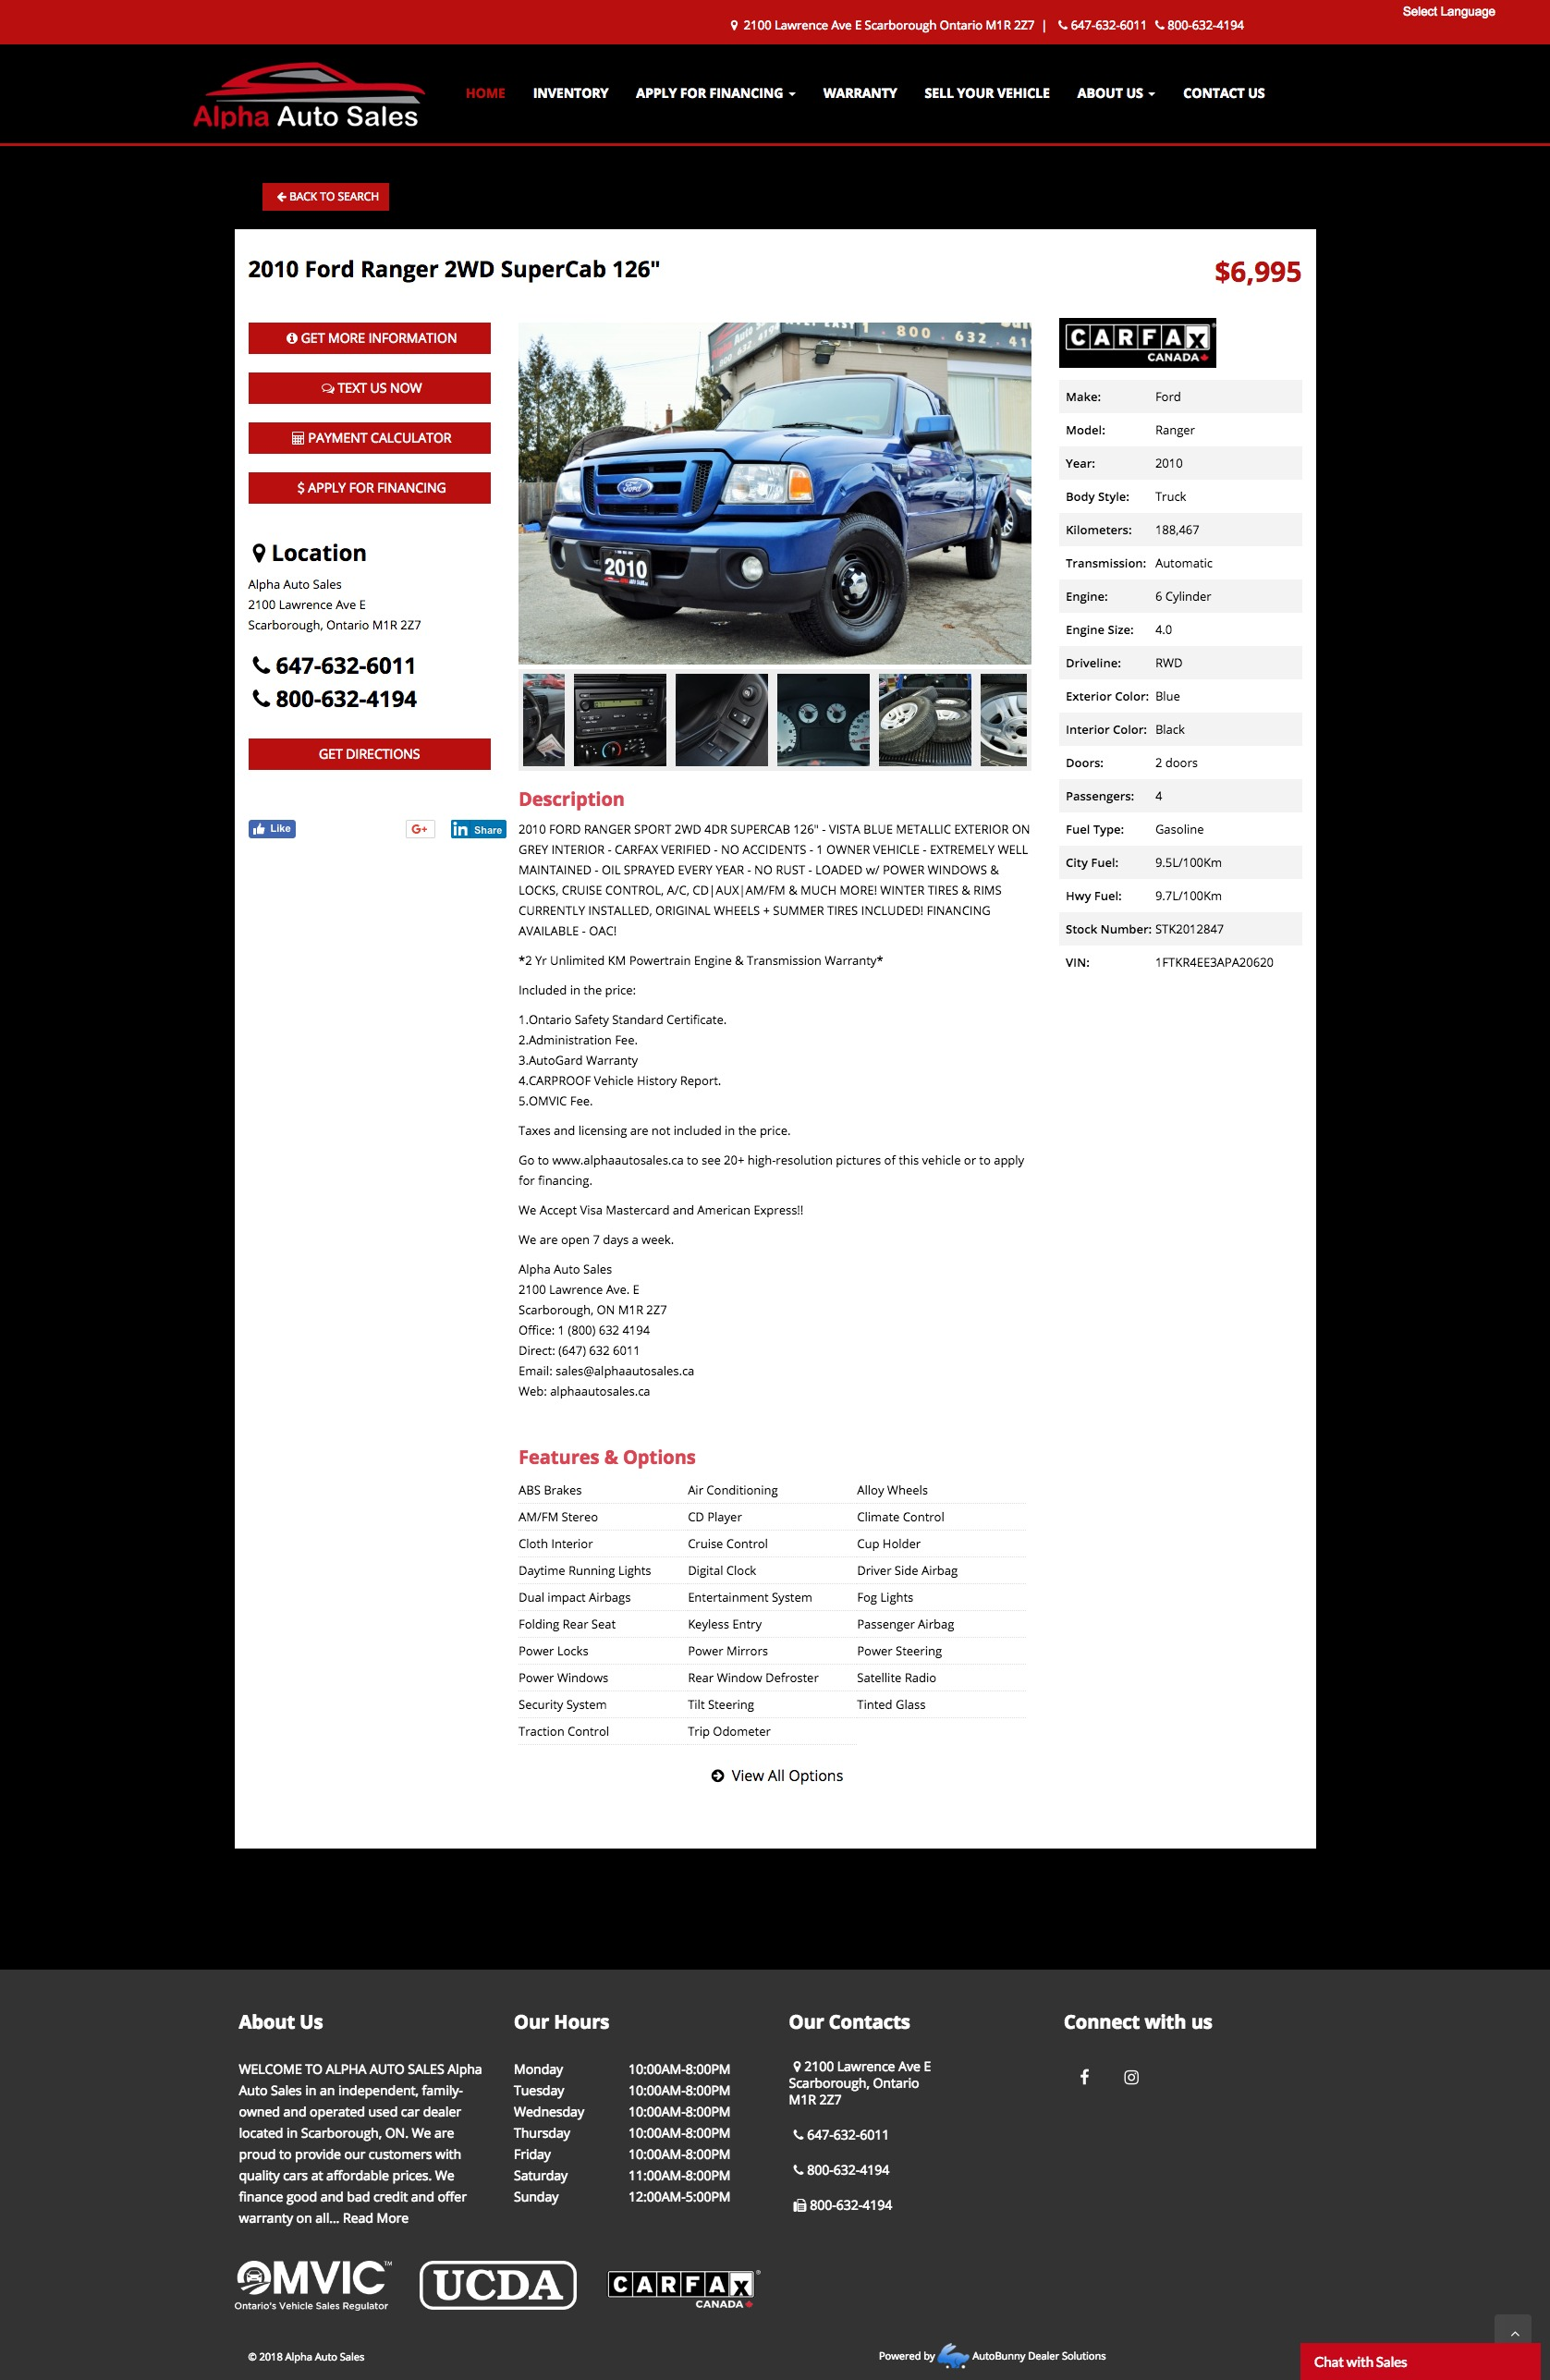car: (1007, 666, 1037, 777)
